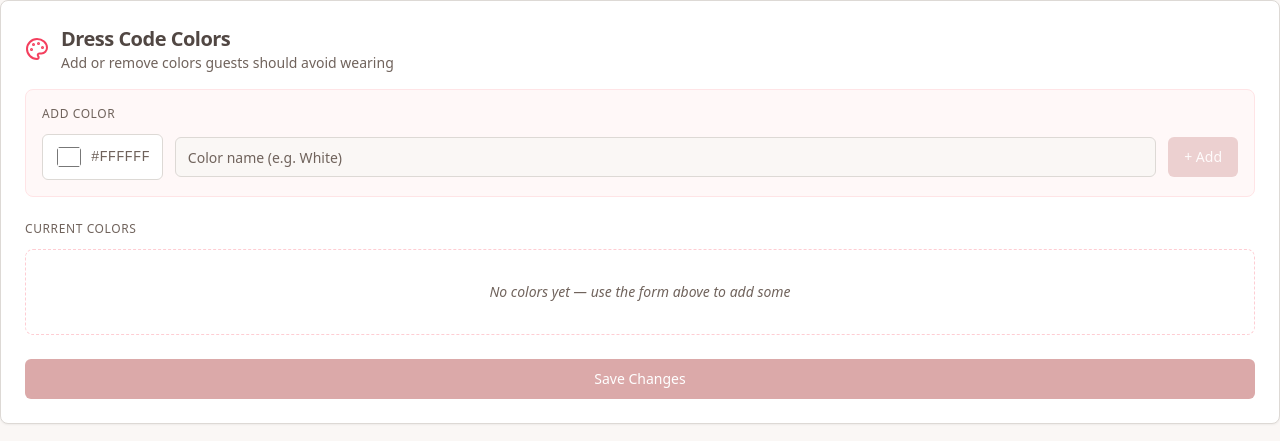
Test: DressCodePage › pressing Enter in label input adds the color
Type "Ivory" into the field with test id "input-new-label" at (666,157), box [175,137,1156,177]
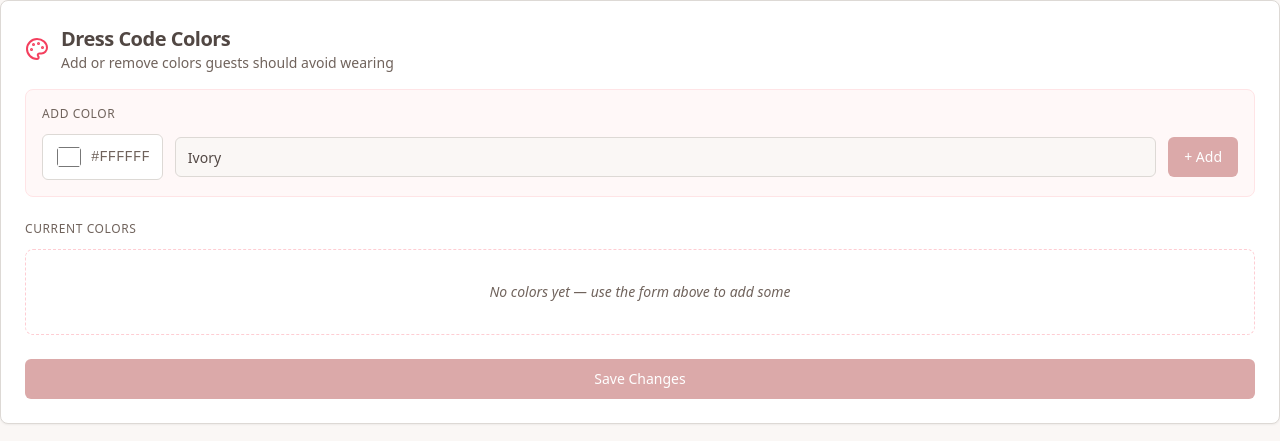
Press Enter in the field with test id "input-new-label", box [175,137,1156,177]
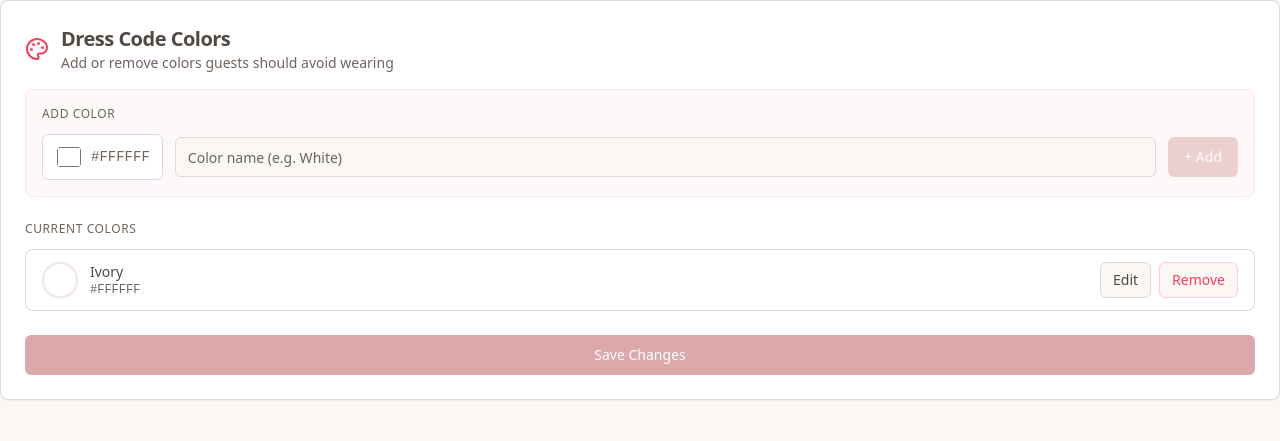
Check: the text "Ivory" is shown, box [90,262,123,281]
